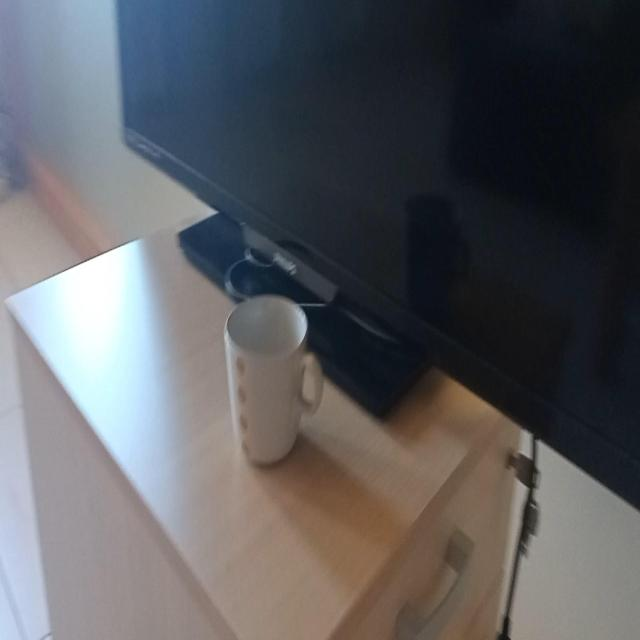cup: (225, 295, 324, 466)
